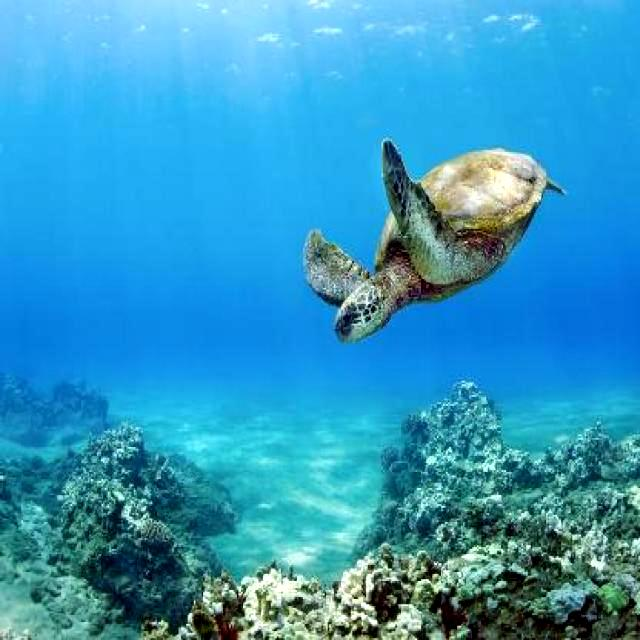Sea turtle: (301, 136, 574, 345)
